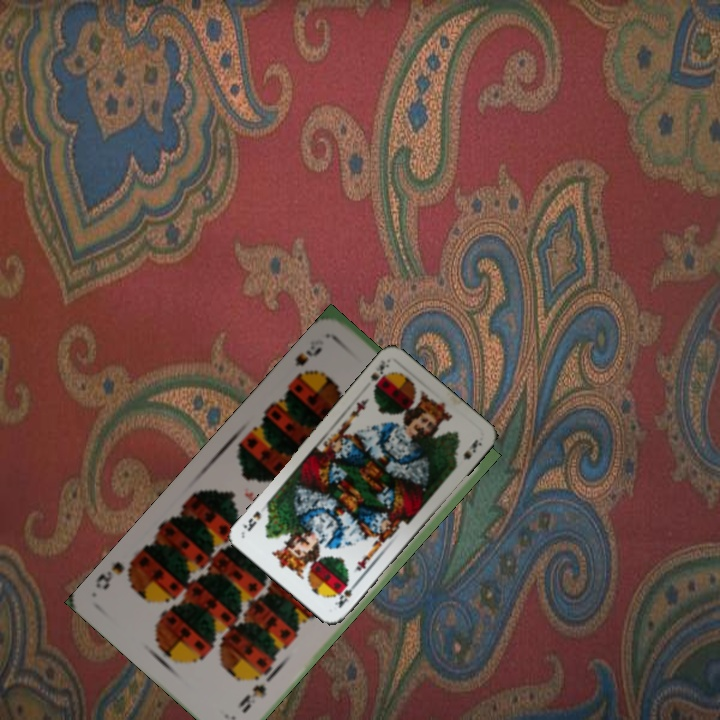S9: (235, 669, 274, 717), (289, 342, 325, 384)
SK: (330, 577, 361, 611), (366, 355, 392, 394)
